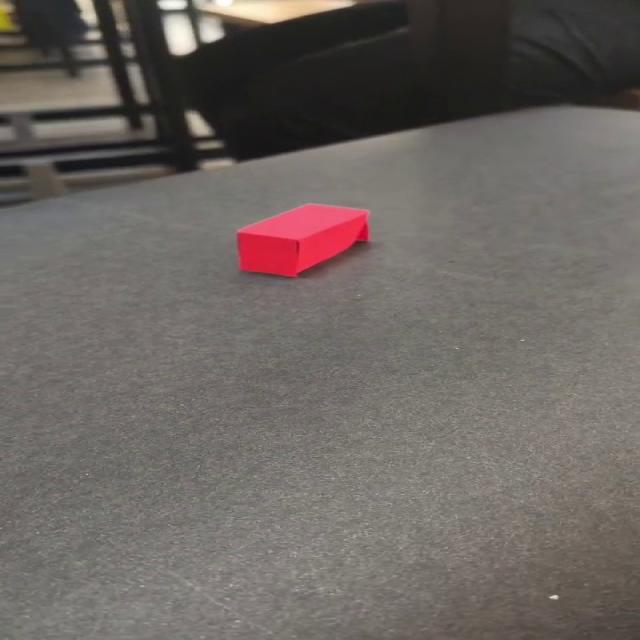red block: (235, 202, 369, 278)
